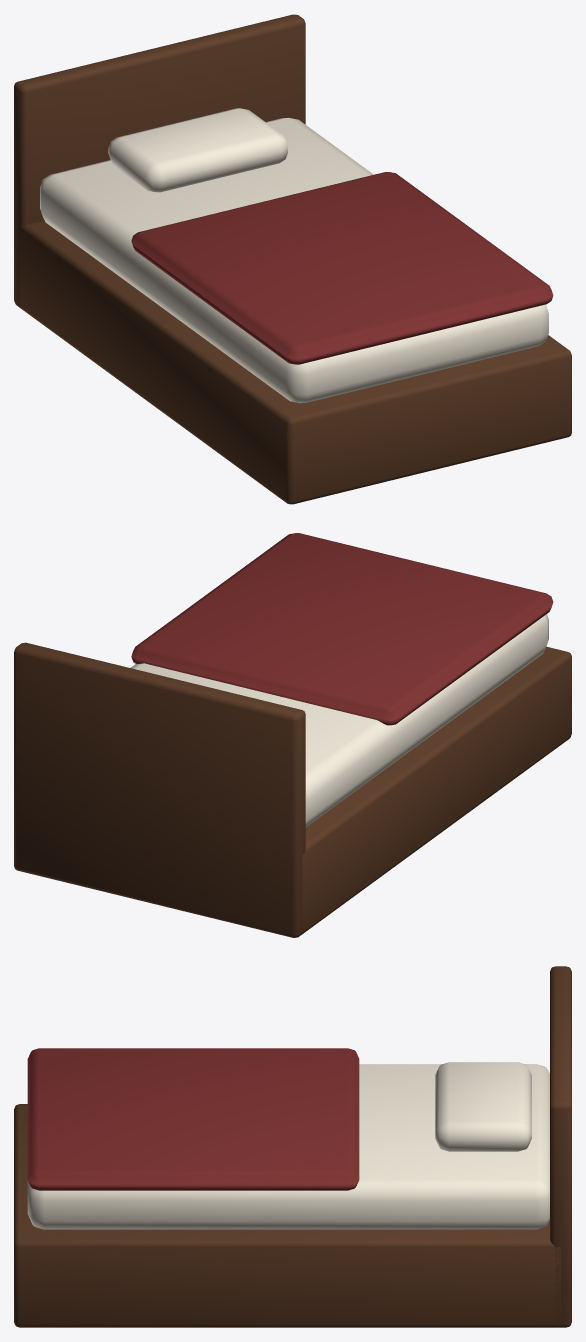
Rendered from cabin_bed.gltf.
3 views of the same model, one above another, from view 1: azimuth 30°, elevation 25°; view 2: azimuth 150°, elevation 25°; view 3: azimuth 270°, elevation 25° (orthographic).
Visible parts, largest first — view 1: cabin_bed_mesh; view 2: cabin_bed_mesh; view 3: cabin_bed_mesh.
Part boxes in pixels (x1,y1,x2,y2): cabin_bed_mesh: (14, 14, 571, 504); cabin_bed_mesh: (14, 533, 571, 937); cabin_bed_mesh: (14, 966, 571, 1327).
Size of the model in its own units: 1.2 by 0.9 by 2.02.
